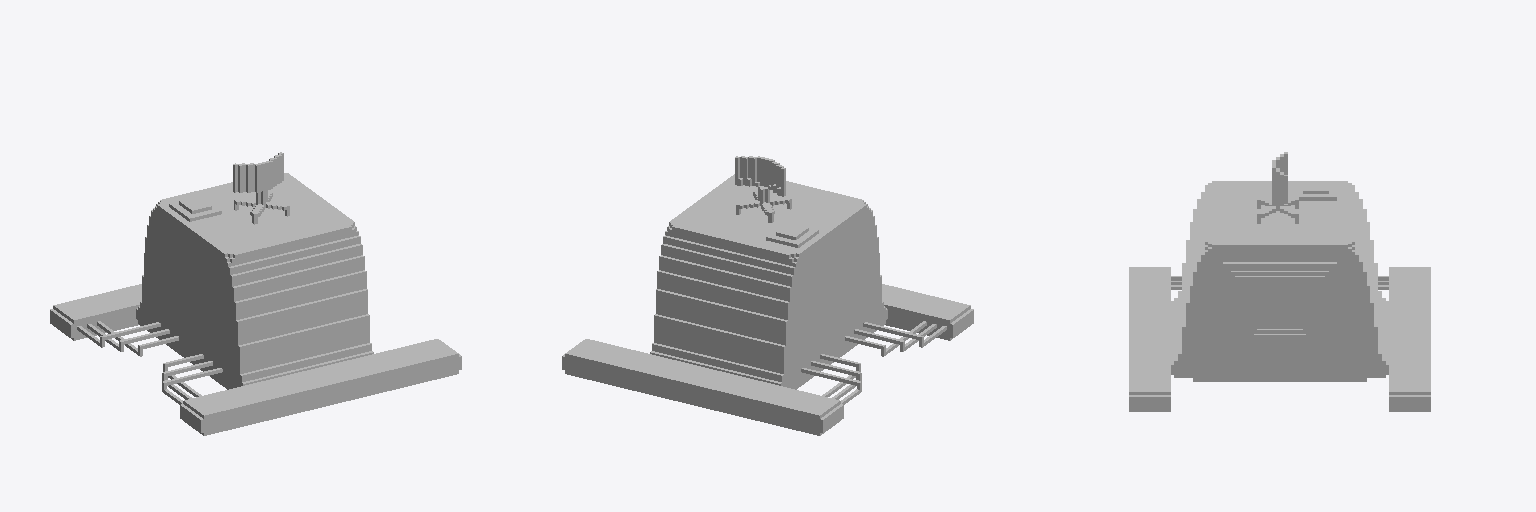
Rendered from telo.obj.
3 views of the same model, side by side, from view 1: azimuth 30°, elevation 25°; view 2: azimuth 150°, elevation 25°; view 3: azimuth 270°, elevation 25° (orthographic).
Visible parts, largest first — view 1: object 1; view 2: object 1; view 3: object 1.
Boxes of the visible parts, box(x1,y1,x2,y2) form: object 1: box(50, 152, 461, 435); object 1: box(562, 156, 973, 435); object 1: box(1129, 152, 1430, 411).
Size of the model in its own units: 8 by 5.5 by 8.